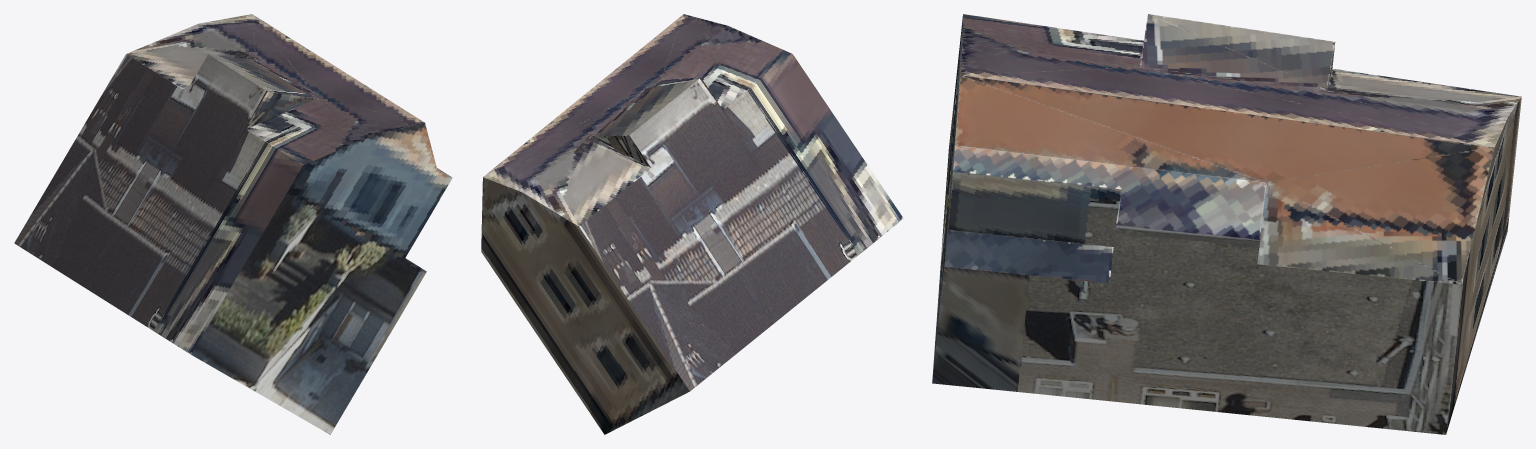
The picture shows the model from 3 angles, left to right: view 1: azimuth 30°, elevation 25°; view 2: azimuth 150°, elevation 25°; view 3: azimuth 270°, elevation 25°; orthographic projection. The views are drawn at different scales.
Parts seen in each view (by area): view 1: BAG_0599100000760478 (×4); view 2: BAG_0599100000760478 (×4); view 3: BAG_0599100000760478 (×4).
Boxes of the visible parts, <box> form: BAG_0599100000760478 (×4): <box>14,14,452,434</box>; BAG_0599100000760478 (×4): <box>481,14,903,434</box>; BAG_0599100000760478 (×4): <box>932,14,1521,434</box>.
Size of the model in its own units: 12.43 by 12.7 by 16.03.
5 materials, 5 textured.
